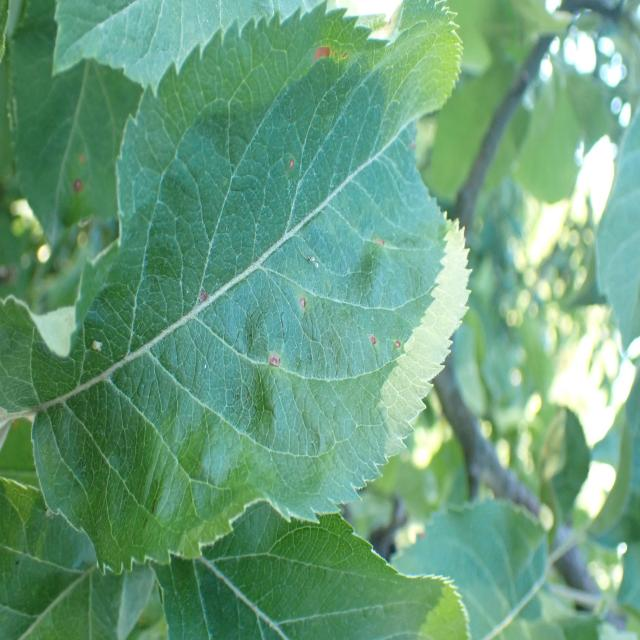Black Rot: (310, 29, 346, 88), (65, 165, 94, 212), (194, 274, 218, 320), (354, 322, 384, 358), (369, 218, 389, 267), (258, 340, 288, 370), (280, 149, 302, 186), (294, 288, 317, 318), (389, 331, 408, 361)
